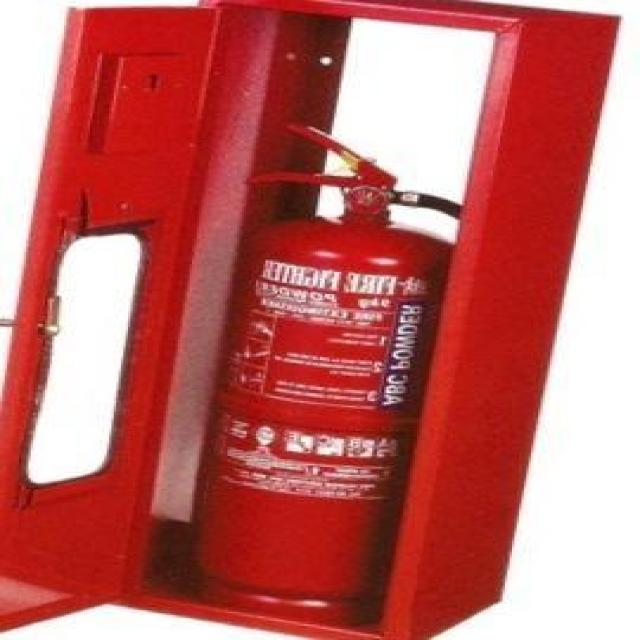fire_extinguisher: (174, 116, 508, 630)
